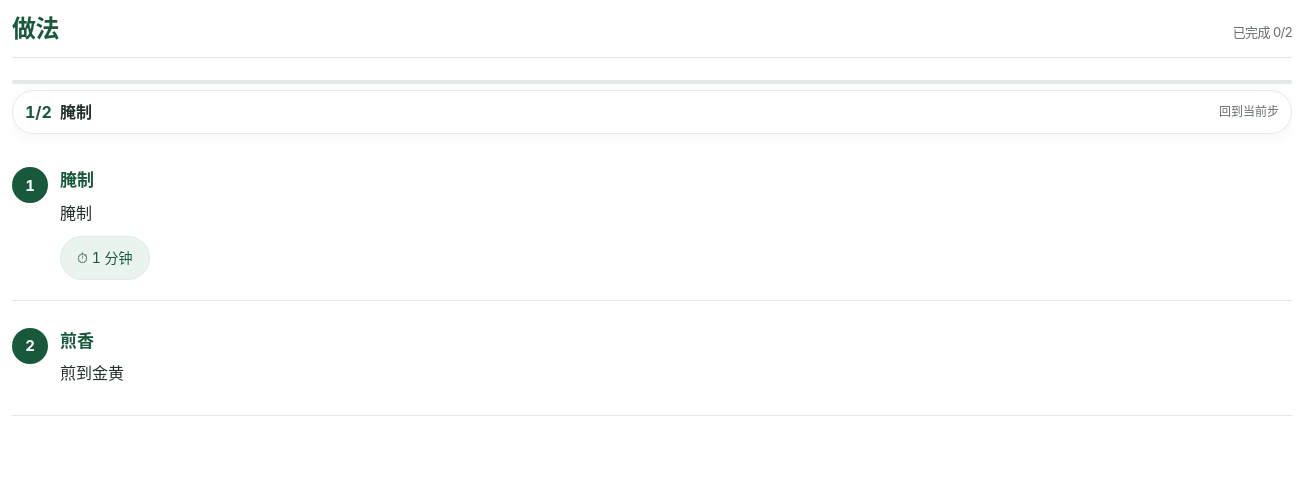
Scenario: StepList · 完成状态 › 点步骤卡片标记完成，再点取消
Click the button with class "step-main" showing "1 腌制 腌制" at (30, 185), box [12,157,1292,236]
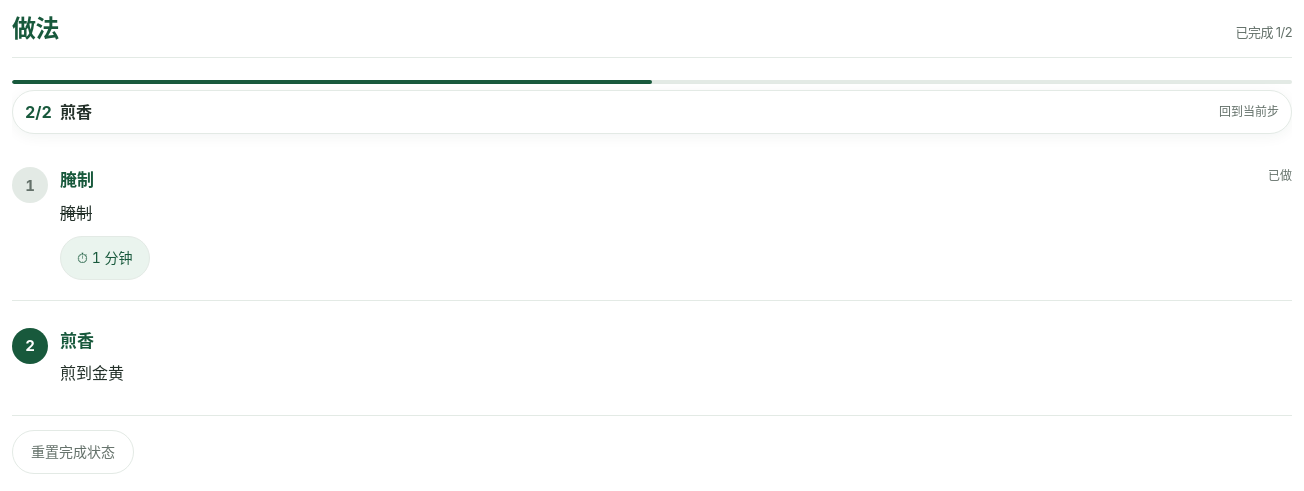
Check: the text with class "section-note" reads "已完成 1/2", box [1236,22,1292,42]
Click the button with class "step-main" showing "1 腌制 腌制 已做" at (30, 185), box [12,157,1292,236]
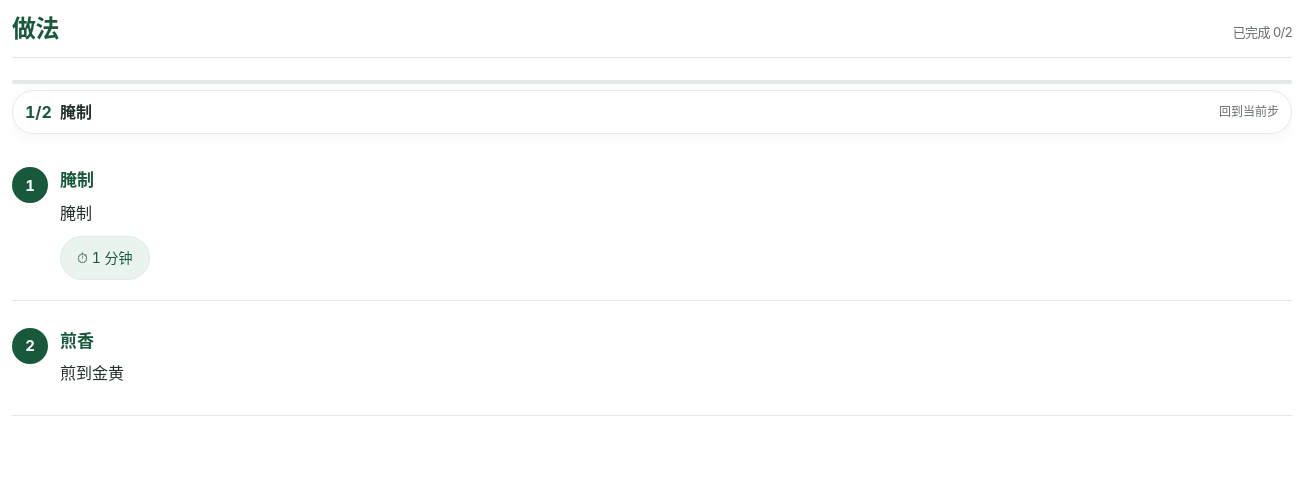
Check: the text with class "section-note" reads "已完成 0/2", box [1233,22,1292,42]
